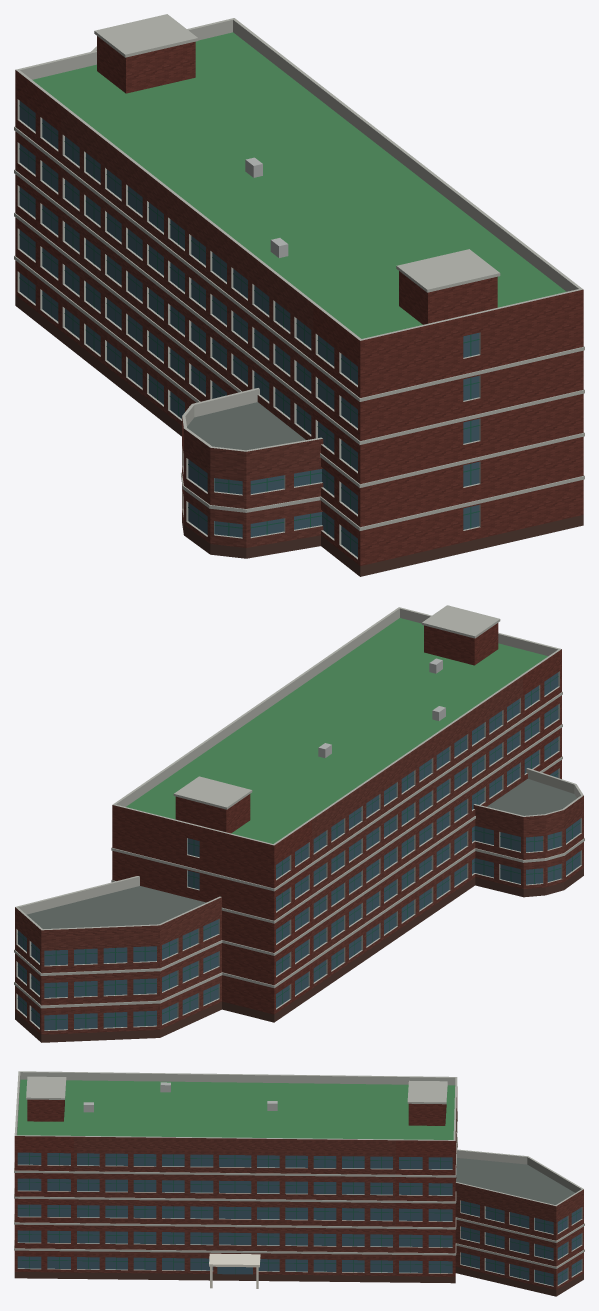
3 renders of one model, top to bottom at view 1: azimuth 30°, elevation 25°; view 2: azimuth 150°, elevation 25°; view 3: azimuth 270°, elevation 25°, orthographic. The views are drawn at different scales.
Parts seen in each view (by area): view 1: west__brick, west__roof, west__wall-plaster, west__trim-concrete, west__glass, west__base-stone, west__frame, west-extension1__roof; view 2: west__wall-plaster, west__roof, west__brick, west__glass, west__trim-concrete, west-extension1__roof, west__base-stone, west__frame; view 3: west__wall-plaster, west__glass, west__roof, west__trim-concrete, west__brick, west__base-stone, west__frame, west-extension1__roof, west__canopy-concrete, west__equipment.
Boxes of the visible parts, box(x1,y1,x2,y2) form: west__brick: box(15, 36, 583, 566); west__roof: box(32, 32, 566, 338); west__wall-plaster: box(60, 105, 323, 547); west__trim-concrete: box(14, 14, 584, 559); west__glass: box(19, 101, 479, 557); west__base-stone: box(15, 295, 583, 576); west__frame: box(19, 105, 479, 551); west-extension1__roof: box(187, 402, 305, 450); west__wall-plaster: box(15, 676, 583, 1034); west__roof: box(126, 618, 547, 843); west__brick: box(112, 623, 561, 1014); west__glass: box(18, 672, 580, 1030); west__trim-concrete: box(14, 605, 584, 1030); west-extension1__roof: box(27, 779, 576, 928); west__base-stone: box(15, 868, 583, 1042); west__frame: box(17, 676, 580, 1029); west__wall-plaster: box(74, 1136, 583, 1289); west__glass: box(17, 1152, 581, 1285); west__roof: box(17, 1079, 455, 1139); west__trim-concrete: box(14, 1071, 584, 1286); west__brick: box(14, 1086, 457, 1276); west__base-stone: box(14, 1267, 583, 1296); west__frame: box(17, 1152, 581, 1283); west-extension1__roof: box(456, 1158, 574, 1204); west__canopy-concrete: box(209, 1253, 260, 1288); west__equipment: box(83, 1082, 277, 1112).
Size of the model in its own units: 32.82 by 22.05 by 71.82.
10 materials, 2 textured.
